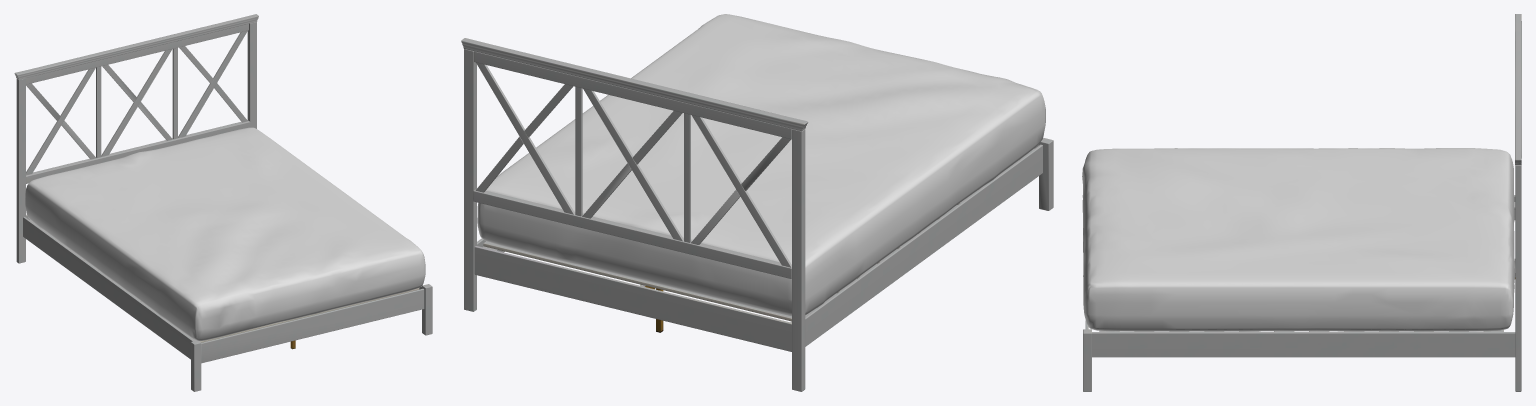
The model's file is B084ZBDPG5.glb.
3 renders of one model, left to right at view 1: azimuth 30°, elevation 25°; view 2: azimuth 150°, elevation 25°; view 3: azimuth 270°, elevation 25°, orthographic. The views are drawn at different scales.
Visible parts, largest first — view 1: RootNode; view 2: RootNode; view 3: RootNode.
Part boxes in pixels (box(x1,y1,x2,y2)): RootNode: box(14, 14, 432, 391); RootNode: box(461, 14, 1053, 391); RootNode: box(1082, 14, 1521, 391).
Bounding box in the file's own units: 1.67 × 1.25 × 2.13.
1 material, 1 textured.
